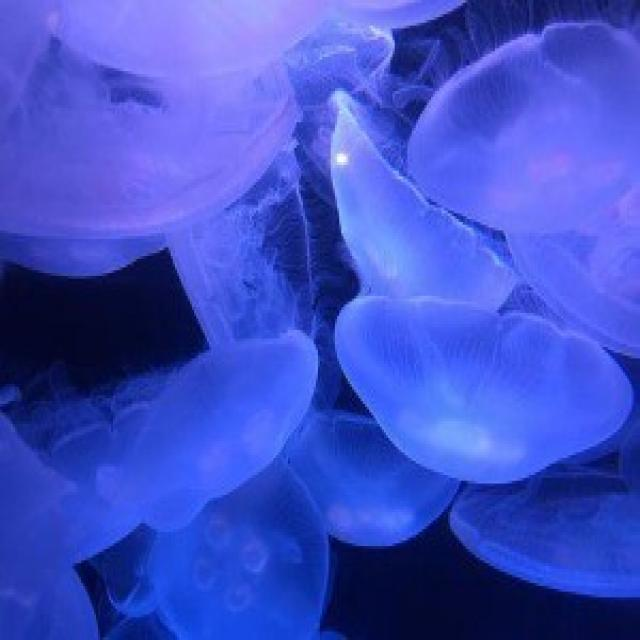Jellyfish: (335, 298, 636, 501), (110, 350, 326, 536)
